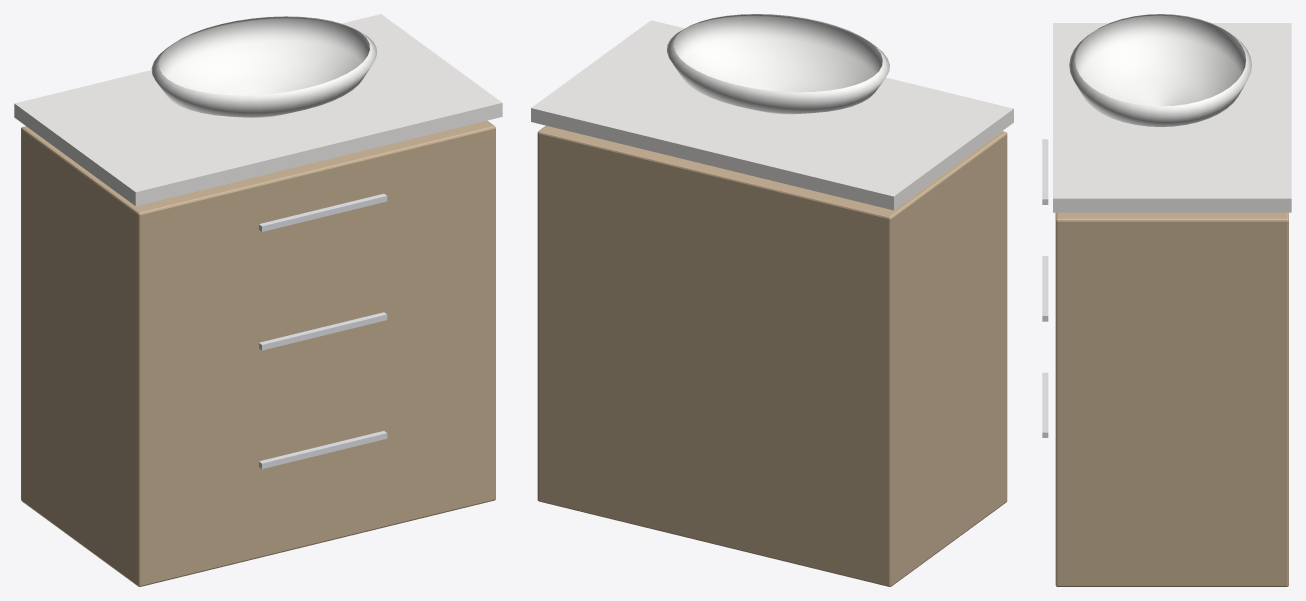
File: vanity-standing-3drawer.glb
3 views of the same model, side by side, from view 1: azimuth 30°, elevation 25°; view 2: azimuth 150°, elevation 25°; view 3: azimuth 270°, elevation 25° (orthographic).
Parts seen in each view (by area): view 1: body; view 2: body; view 3: body.
Part boxes in pixels (left/top/right/bottom): body: left=14, top=14, right=502, bottom=586; body: left=531, top=14, right=1013, bottom=586; body: left=1042, top=14, right=1291, bottom=586.
Size of the model in its own units: 0.82 by 0.96 by 0.491.
